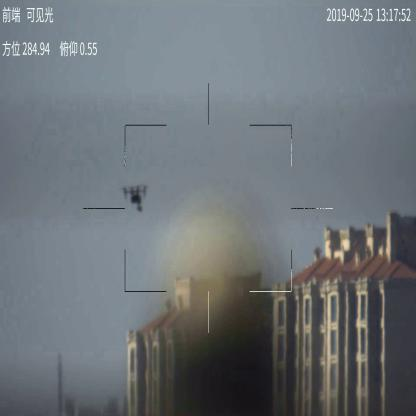uav: (120, 183, 147, 210)
